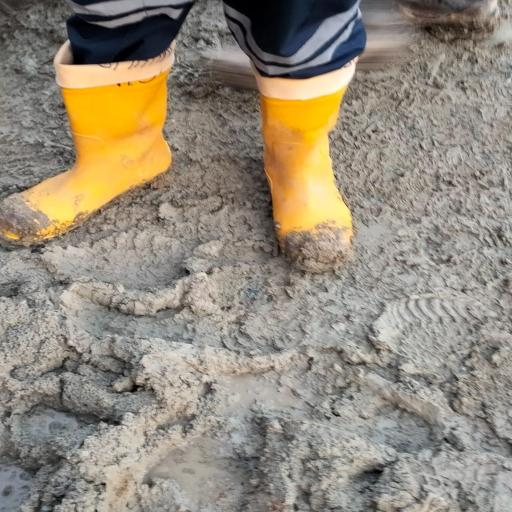safety_shoe: (4, 62, 174, 242), (242, 70, 366, 271)
